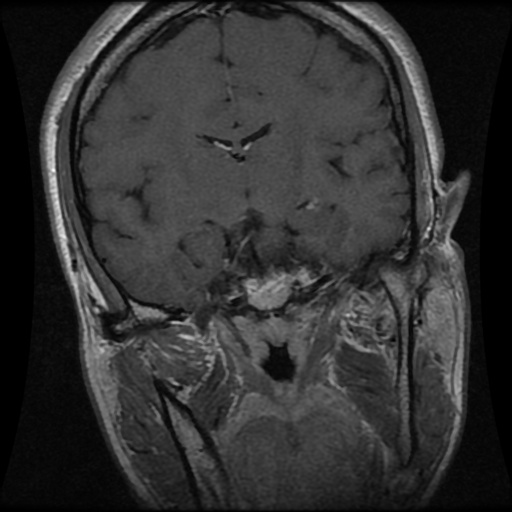pituitary: (242, 263, 312, 311)
